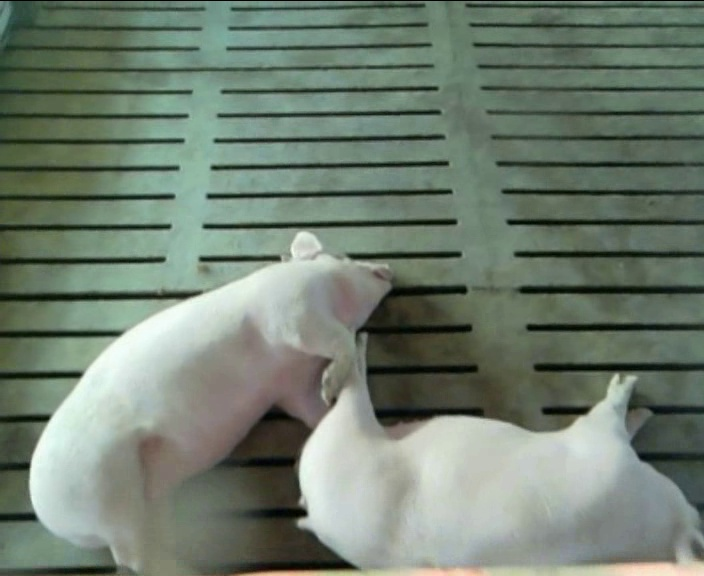pig: (30, 232, 390, 570), (299, 333, 703, 566)
